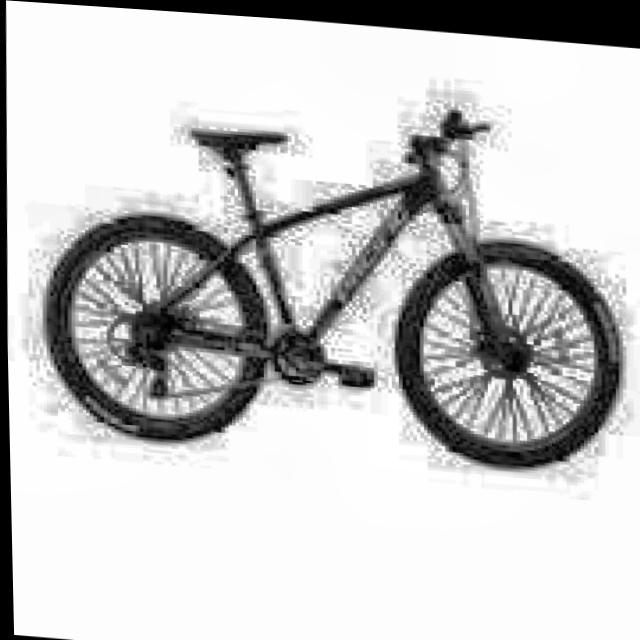bike: (27, 69, 640, 495)
